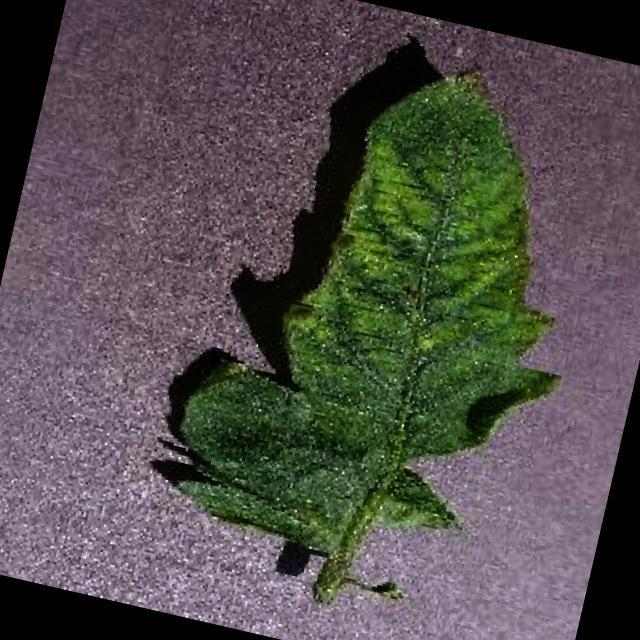Tomato mosaic virus leaf: (156, 17, 630, 606)
